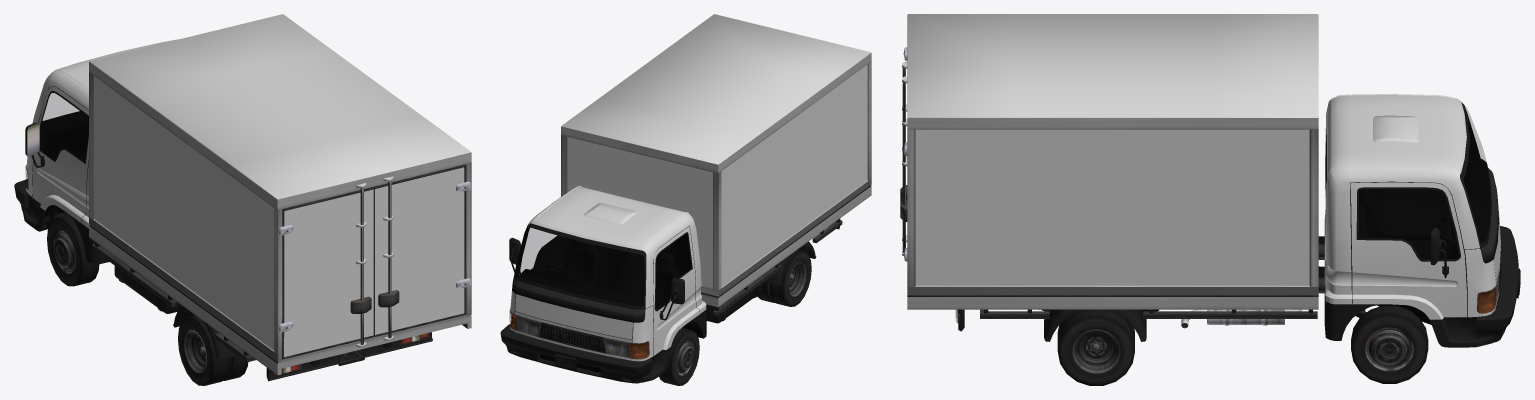
3 views of the same model, side by side, from view 1: azimuth 30°, elevation 25°; view 2: azimuth 150°, elevation 25°; view 3: azimuth 270°, elevation 25° (orthographic). The views are drawn at different scales.
Parts seen in each view (by area): view 1: body_body_0, bottom_bottom_and plastic_0, wheels_tier_0, glass_glass_0, interior_void_0, wheels_rim_0; view 2: body_body_0, bottom_bottom_and plastic_0, glass_glass_0, interior_void_0, wheels_tier_0, lights_lights_0, wheels_rim_0, lights_glass_0, grill_bottom_and plastic_0; view 3: body_body_0, bottom_bottom_and plastic_0, interior_void_0, glass_glass_0, wheels_tier_0, wheels_rim_0.
Part boxes in pixels (x1,y1,x2,y2): body_body_0: [26, 14, 470, 356]; bottom_bottom_and plastic_0: [14, 62, 471, 381]; wheels_tier_0: [47, 214, 248, 385]; glass_glass_0: [40, 93, 88, 160]; interior_void_0: [32, 86, 88, 220]; wheels_rim_0: [53, 230, 206, 373]; body_body_0: [510, 14, 870, 361]; bottom_bottom_and plastic_0: [500, 53, 871, 383]; glass_glass_0: [515, 228, 690, 308]; interior_void_0: [515, 226, 699, 355]; wheels_tier_0: [659, 249, 811, 385]; lights_lights_0: [509, 310, 649, 359]; wheels_rim_0: [676, 261, 806, 375]; lights_glass_0: [509, 313, 648, 358]; grill_bottom_and plastic_0: [540, 325, 604, 352]; body_body_0: [907, 14, 1500, 319]; bottom_bottom_and plastic_0: [900, 47, 1520, 347]; interior_void_0: [1350, 110, 1490, 317]; glass_glass_0: [1359, 106, 1490, 258]; wheels_tier_0: [1057, 305, 1428, 385]; wheels_rim_0: [1071, 327, 1414, 373].
Bounding box in the file's own units: 2.56 × 2.82 × 5.84.
Materials: 9 (5 with a texture image).
